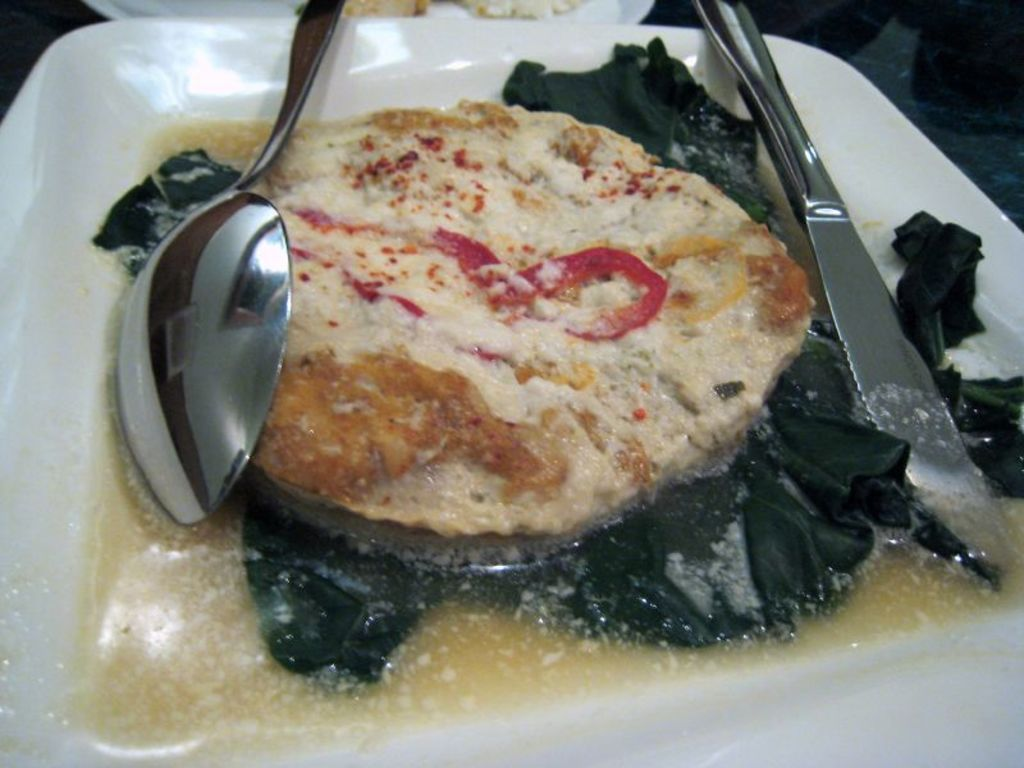Pizza: (158, 83, 817, 547)
